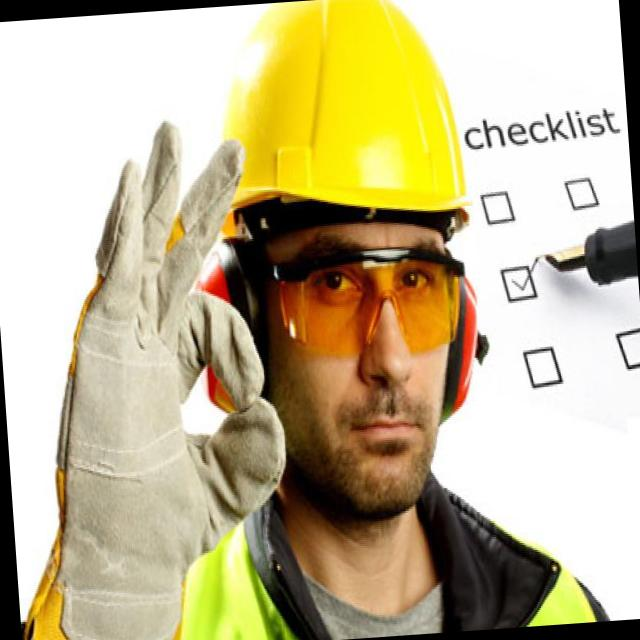Gloves: (48, 102, 294, 572)
Helmet: (214, 0, 479, 248)
